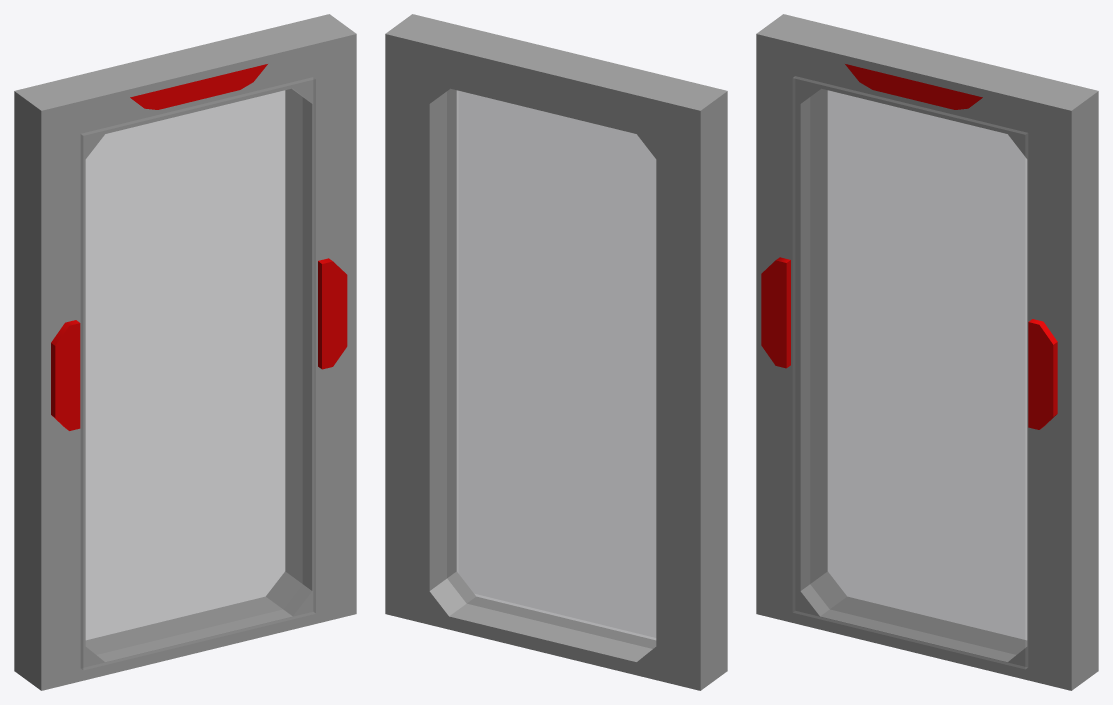
File: _orte.fbx
The picture shows the model from 3 angles, left to right: view 1: azimuth 30°, elevation 25°; view 2: azimuth 150°, elevation 25°; view 3: azimuth 330°, elevation 25°; orthographic projection.
Visible parts, largest first — view 1: vitre1, bordure; view 2: bordure, vitre1; view 3: vitre1, bordure.
Part boxes in pixels (bbox=[...]): vitre1: bbox=[81, 77, 315, 670]; bordure: bbox=[14, 14, 356, 690]; bordure: bbox=[385, 14, 727, 690]; vitre1: bbox=[447, 89, 656, 648]; vitre1: bbox=[792, 76, 1027, 669]; bordure: bbox=[756, 14, 1098, 690].
Bounding box in the file's own units: 1.42 × 2.5 × 0.2464.
